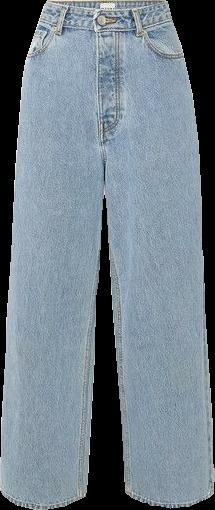Hemline: (0, 487, 88, 509), (123, 488, 214, 509)
Pantleg: (95, 0, 214, 507), (0, 0, 105, 507)
Waistline: (36, 16, 172, 36), (43, 0, 166, 9)
